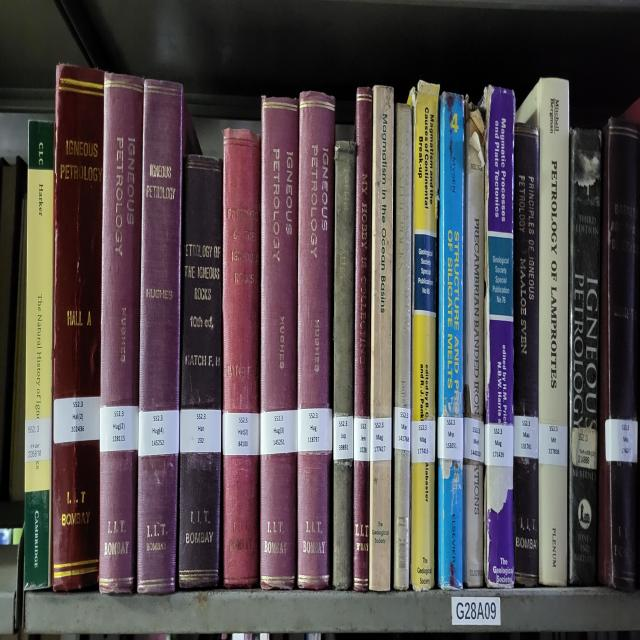Book: (138, 78, 200, 593), (51, 62, 104, 590), (516, 78, 569, 587), (99, 73, 144, 593), (599, 119, 640, 590), (260, 97, 299, 590), (179, 154, 222, 587), (298, 92, 335, 590), (222, 130, 261, 587), (482, 87, 515, 587), (569, 130, 601, 584), (411, 81, 439, 590), (24, 122, 54, 590), (438, 92, 464, 590), (369, 84, 394, 590), (514, 122, 539, 587), (462, 100, 485, 587), (332, 141, 356, 590), (392, 106, 412, 590), (354, 87, 372, 590)
Label: (54, 395, 100, 444), (139, 409, 180, 457), (100, 406, 139, 452), (180, 409, 221, 452), (260, 409, 298, 455), (222, 411, 260, 455), (298, 409, 332, 452), (605, 419, 638, 463), (485, 422, 514, 468), (539, 422, 568, 465), (25, 417, 51, 463), (571, 427, 598, 471), (514, 414, 539, 460), (438, 417, 464, 460), (411, 419, 435, 463), (370, 417, 391, 463), (334, 414, 354, 460), (464, 417, 484, 463), (394, 406, 411, 452), (354, 417, 370, 463)
